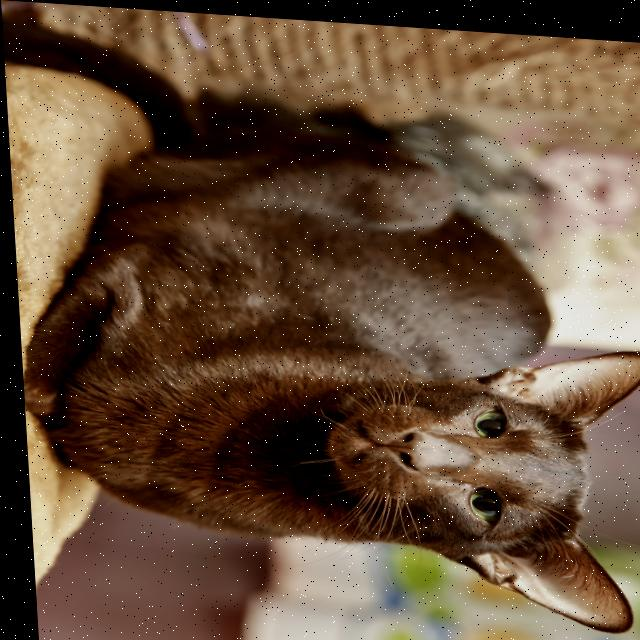Oriental: (0, 7, 640, 631)
